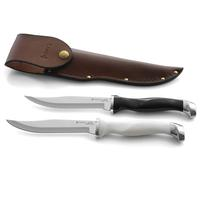knife: (5, 115, 188, 148), (15, 83, 192, 115)
